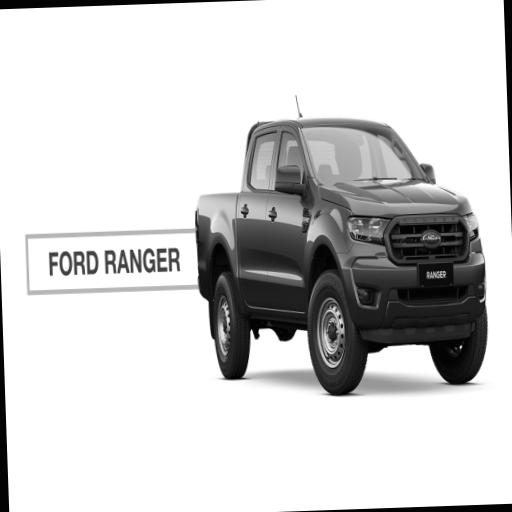pickup: (192, 106, 496, 414)
